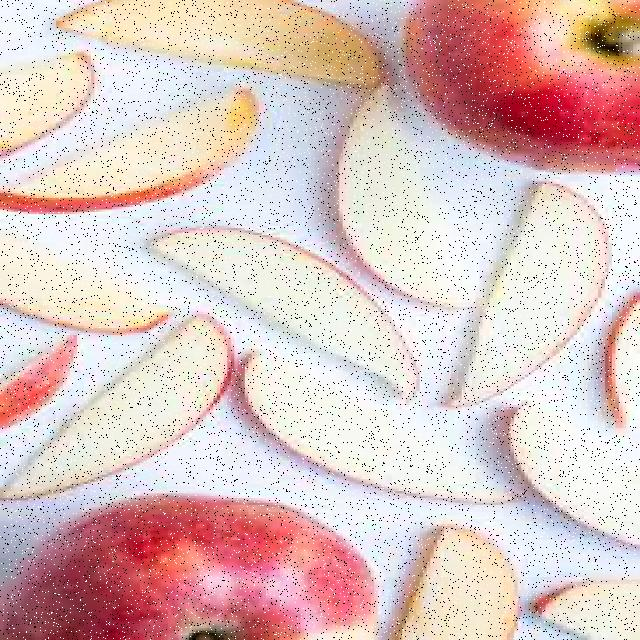Apple: (7, 498, 381, 640), (0, 316, 234, 508), (241, 359, 527, 511), (148, 229, 412, 391), (405, 0, 640, 171), (318, 70, 475, 314), (0, 86, 269, 216), (466, 178, 598, 404), (51, 1, 386, 87), (511, 409, 640, 552), (0, 236, 162, 343), (394, 520, 521, 640), (0, 39, 87, 162), (0, 332, 87, 434), (532, 575, 636, 640), (600, 291, 640, 435)
